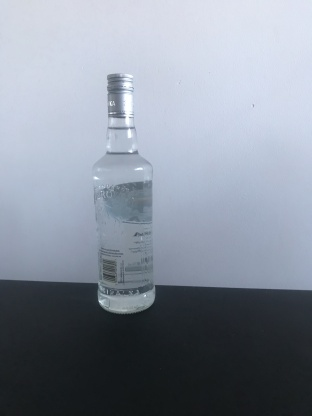nakretka: (105, 72, 135, 119)
